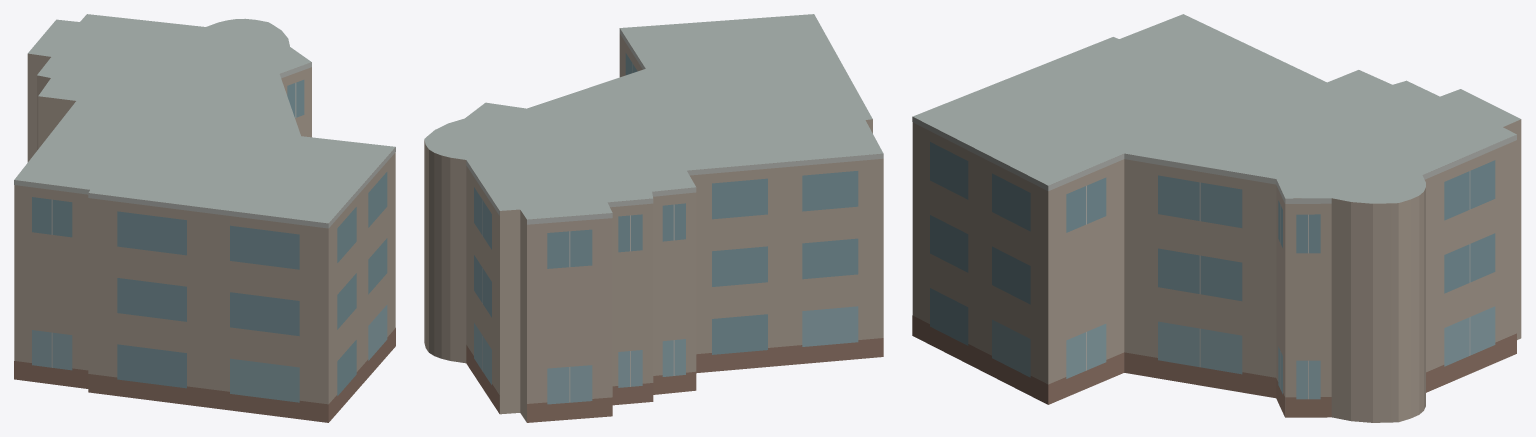
Rendered from survey-upis-32682656.glb.
3 renders of one model, left to right at view 1: azimuth 30°, elevation 25°; view 2: azimuth 150°, elevation 25°; view 3: azimuth 270°, elevation 25°, orthographic. The views are drawn at different scales.
Parts seen in each view (by area): view 1: survey-upis-32682656.tmp; view 2: survey-upis-32682656.tmp; view 3: survey-upis-32682656.tmp.
Part boxes in pixels (bbox=[...]): survey-upis-32682656.tmp: bbox=[14, 14, 395, 422]; survey-upis-32682656.tmp: bbox=[424, 14, 883, 422]; survey-upis-32682656.tmp: bbox=[912, 14, 1521, 422].
Size of the model in its own units: 17.85 by 9.61 by 24.2.
